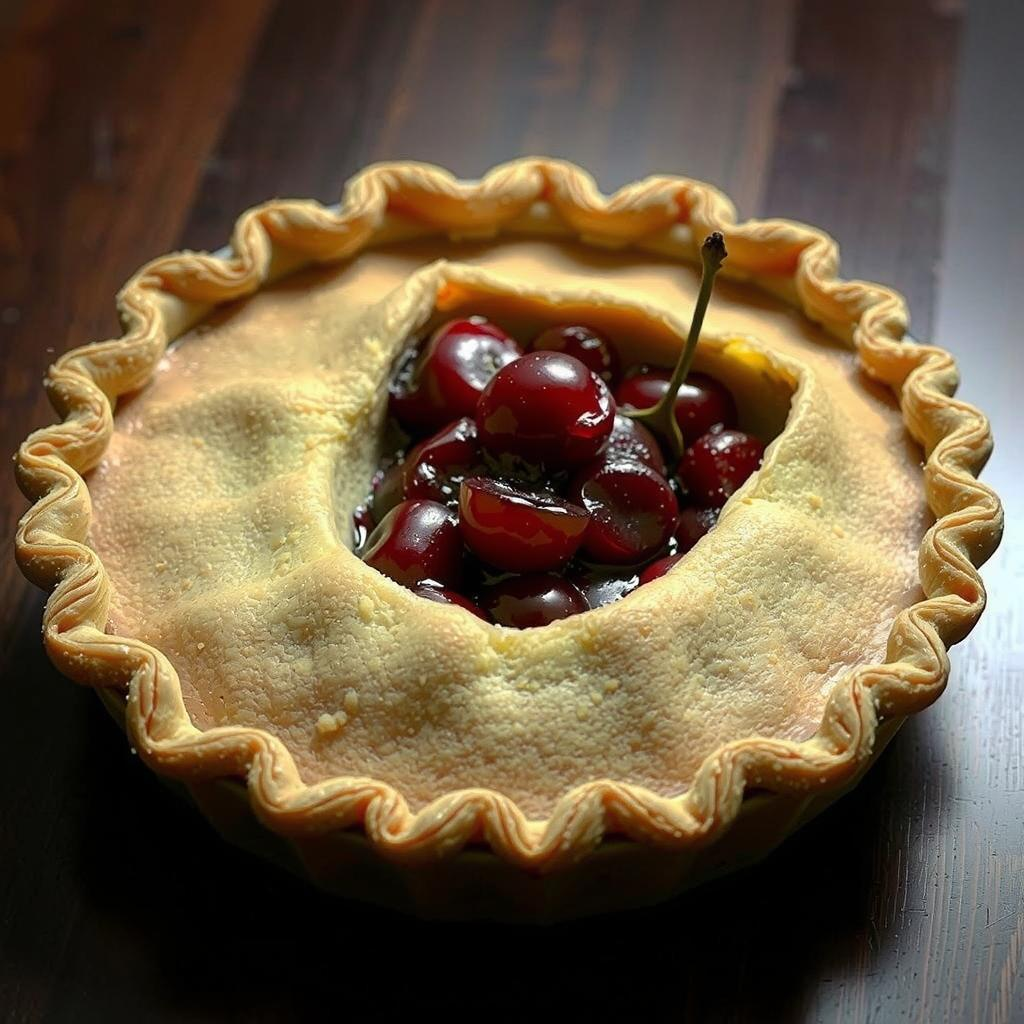pie: (7, 154, 1011, 933)
